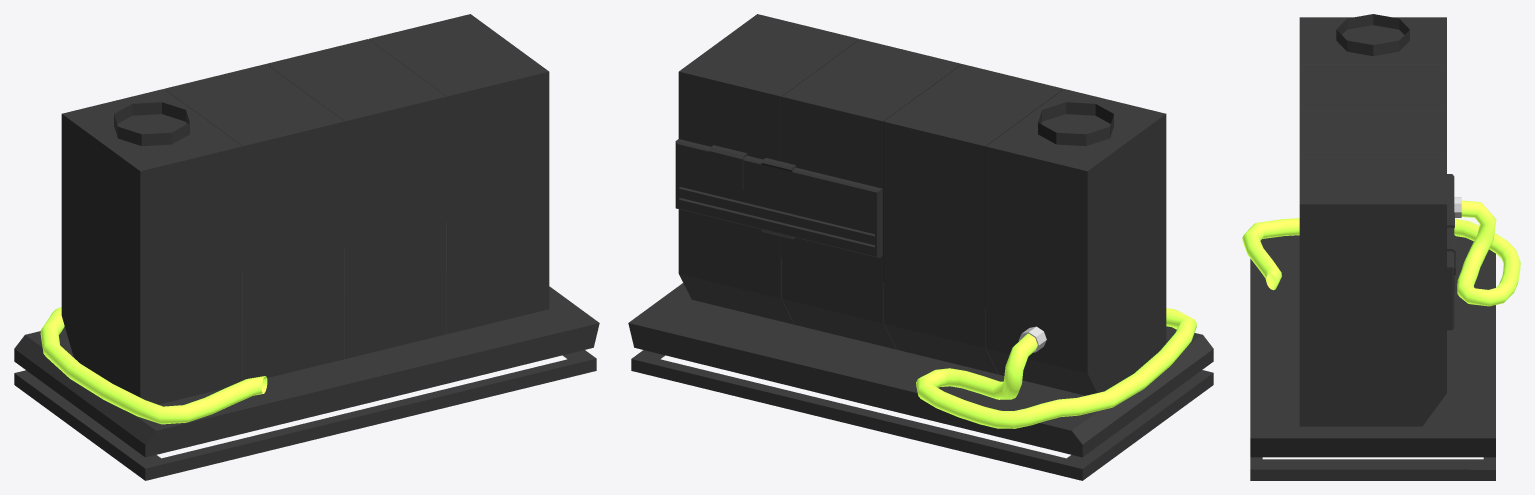
The model's file is Generator.002.fbx.
The picture shows the model from 3 angles, left to right: view 1: azimuth 30°, elevation 25°; view 2: azimuth 150°, elevation 25°; view 3: azimuth 270°, elevation 25°; orthographic projection. The views are drawn at different scales.
Visible parts, largest first — view 1: mod_generator, mod_GeneratorPlatform, mod_gen_cable, mod_base_cable.001; view 2: mod_generator, mod_GeneratorPlatform, mod_generator_panel, mod_gen_cable, mod_base_cable.001, mod_gen_detail; view 3: mod_generator, mod_GeneratorPlatform, mod_gen_cable, mod_base_cable.001, mod_generator_panel.
Boxes of the visible parts, box(x1,y1,x2,y2) form: mod_generator: box(61, 14, 549, 404); mod_GeneratorPlatform: box(14, 270, 599, 480); mod_gen_cable: box(40, 307, 267, 424); mod_base_cable.001: box(114, 102, 189, 146); mod_generator: box(678, 14, 1166, 395); mod_GeneratorPlatform: box(628, 258, 1213, 480); mod_generator_panel: box(675, 139, 882, 257); mod_gen_cable: box(916, 308, 1196, 428); mod_base_cable.001: box(1038, 102, 1113, 146); mod_gen_detail: box(709, 145, 747, 191); mod_generator: box(1299, 17, 1446, 426); mod_GeneratorPlatform: box(1250, 235, 1495, 480); mod_gen_cable: box(1242, 200, 1520, 306); mod_base_cable.001: box(1336, 14, 1409, 56); mod_generator_panel: box(1447, 174, 1454, 330).
Bounding box in the file's own units: 405 × 250 × 227.
